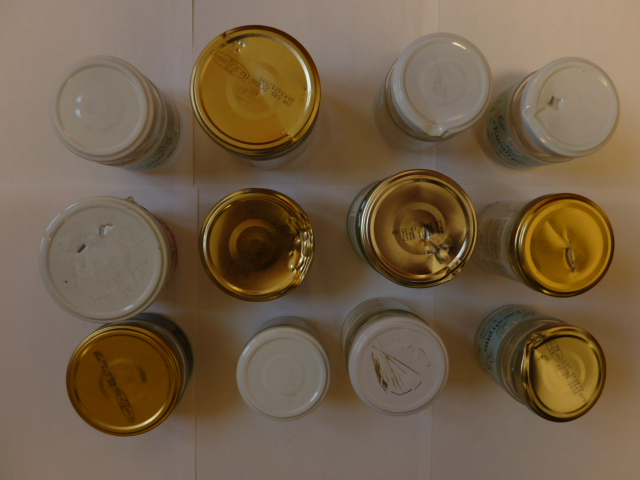damaged: (189, 25, 322, 153), (37, 195, 169, 322), (360, 168, 477, 289), (392, 31, 494, 140), (514, 193, 616, 297), (347, 316, 450, 416), (520, 56, 621, 156), (517, 325, 608, 421)
intact: (64, 326, 185, 438), (51, 55, 156, 161)
